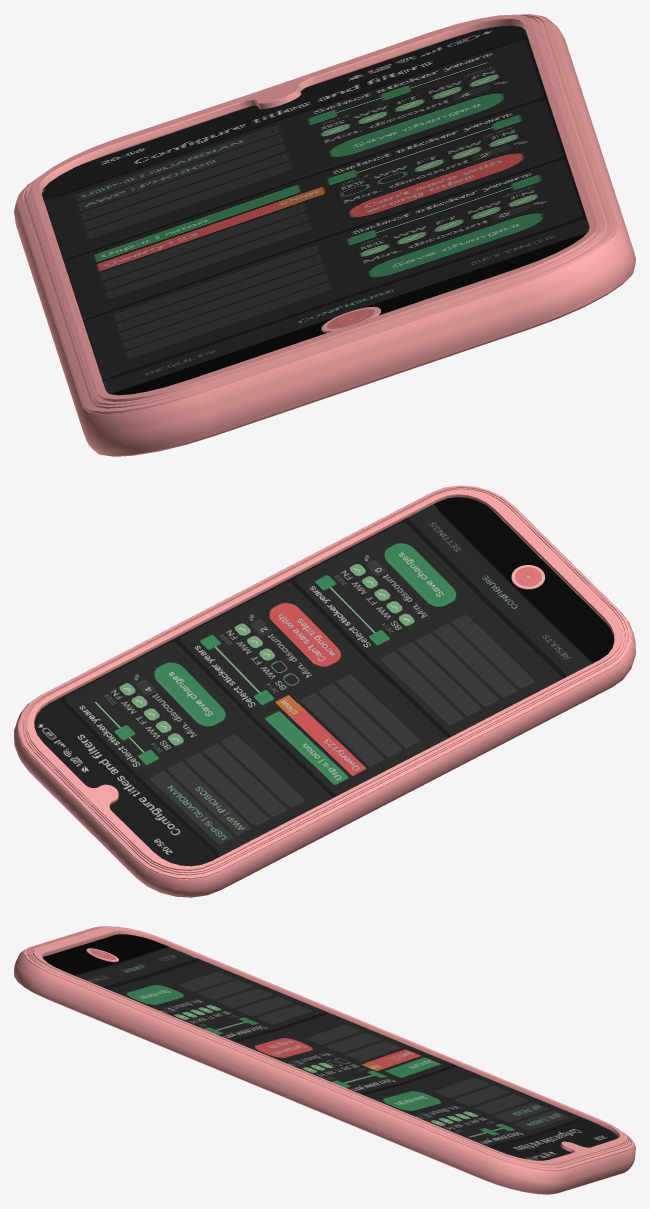
File: Phone.glb
The picture shows the model from 3 angles, top to bottom: view 1: azimuth 30°, elevation 25°; view 2: azimuth 150°, elevation 25°; view 3: azimuth 270°, elevation 25°; orthographic projection. The views are drawn at different scales.
Parts seen in each view (by area): view 1: objMesh; view 2: objMesh; view 3: objMesh.
Boxes of the visible parts, left/top/right/bottom form: objMesh: left=14, top=14, right=635, bottom=456; objMesh: left=14, top=485, right=635, bottom=897; objMesh: left=14, top=926, right=635, bottom=1194.
Bounding box in the file's own units: 1.58 × 0.7001 × 1.95.
4 materials, 4 textured.
